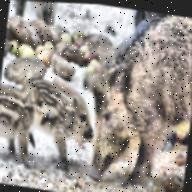boar: (85, 4, 192, 185), (2, 52, 96, 161)
